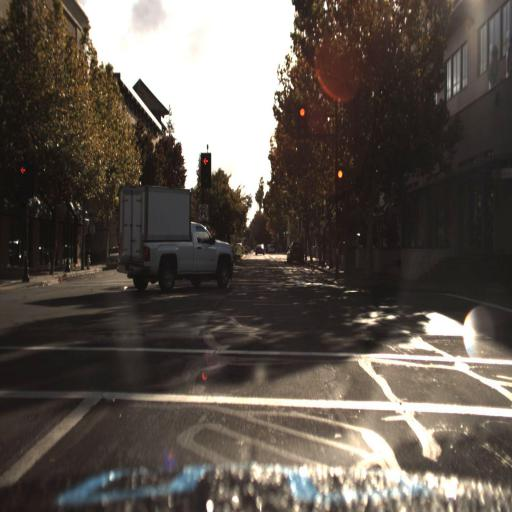car: (117, 180, 240, 288), (102, 244, 123, 268), (286, 236, 308, 258), (286, 240, 301, 261)
trafficLight: (298, 106, 306, 136)
trafficLight-Red: (334, 166, 344, 194)
trafficLight-RedLeft: (16, 163, 26, 198), (201, 151, 211, 184)
